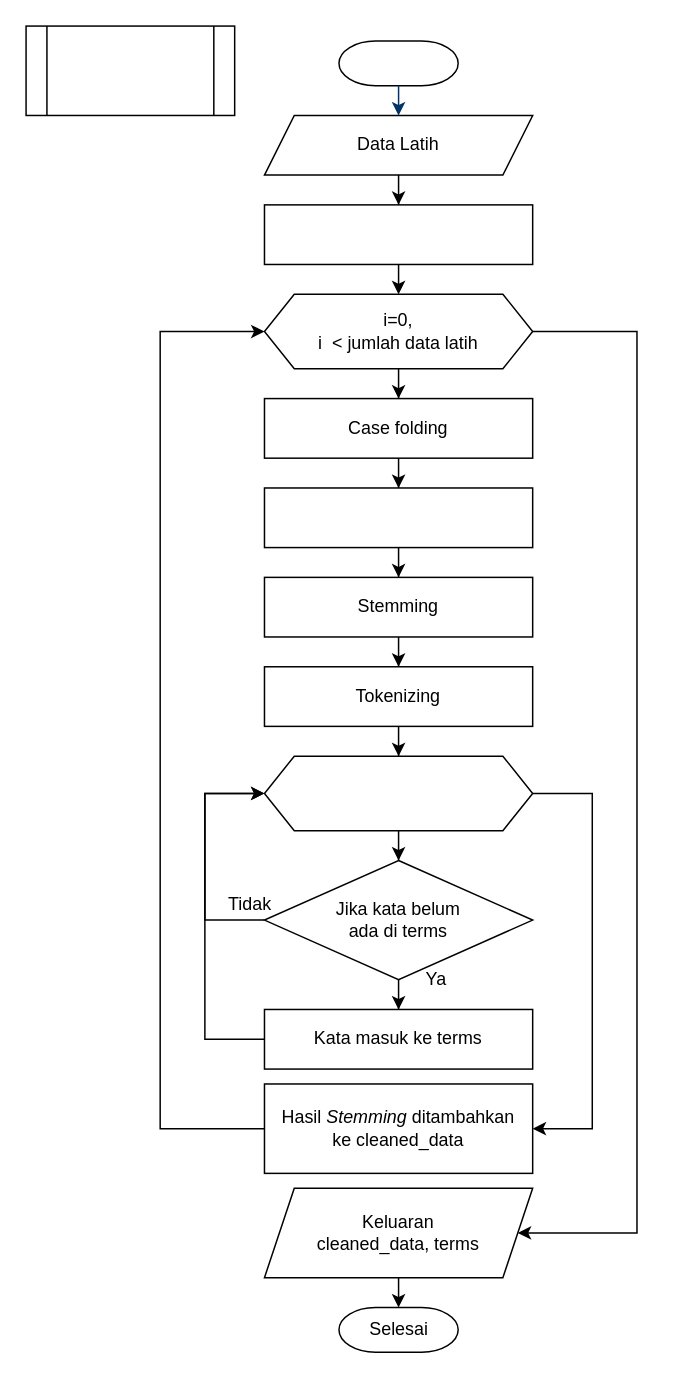
Image size: 675x1378. Some labels were removed from this diagram. Each missing label, with the box of its shape:
cleaned_data = [], terms = []: (263, 203, 533, 264)
Cleaning: (263, 486, 533, 548)
Mulai: (337, 39, 458, 86)
Perulangan kata dalam tokenizing: (263, 755, 533, 831)
Preprocessing tanpa Filtering: (25, 25, 235, 115)
